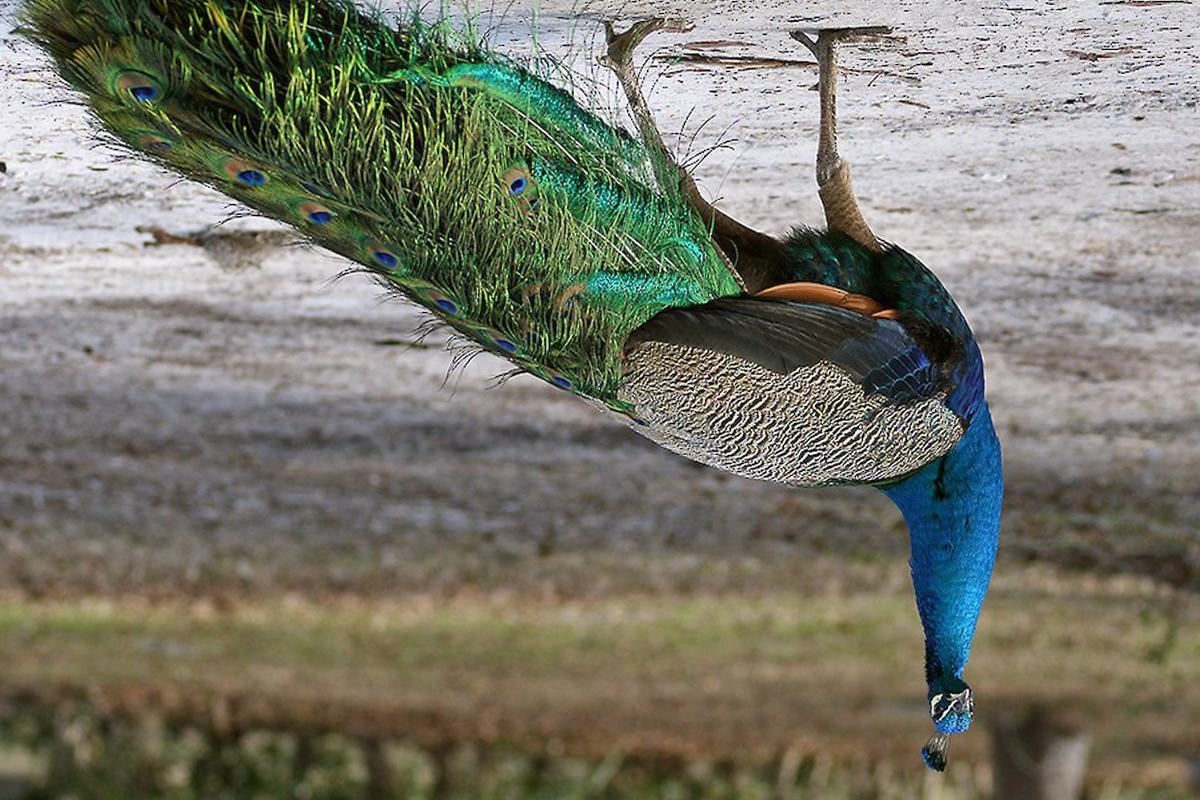peacock: (216, 1, 1021, 763)
